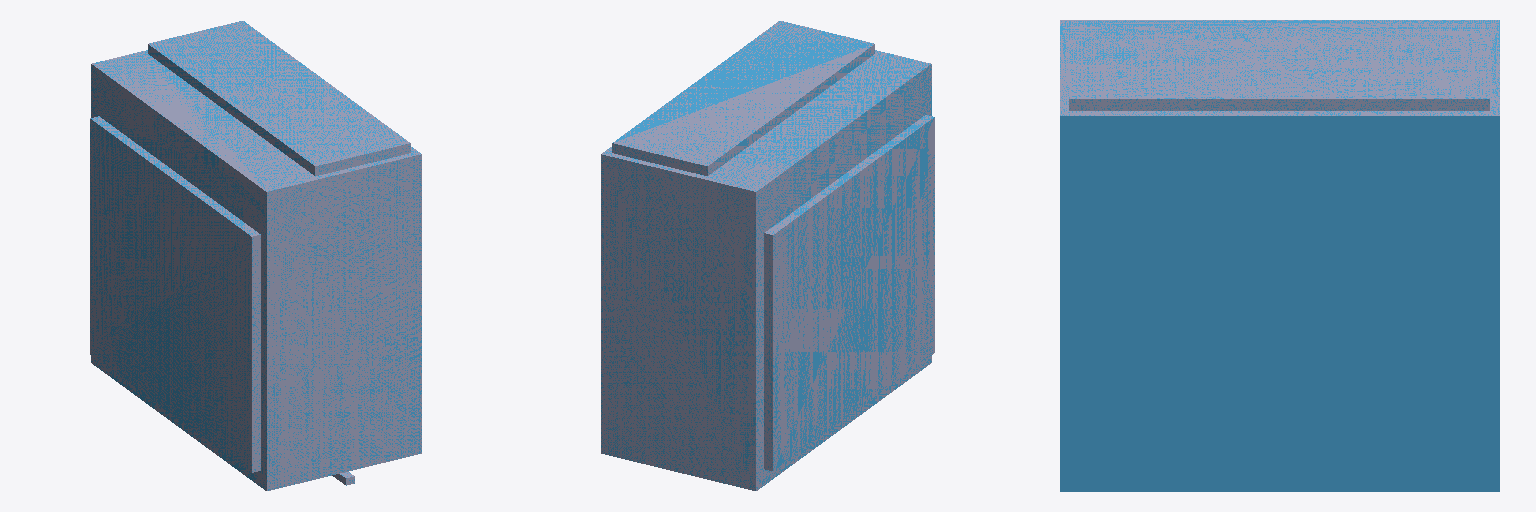
robot.urdf — right-pull-door:
<?xml version="1.0" ?>
<robot name="right-pull-door">
	<link name="base"/>
	<link name="link_0">
		<visual name="out-frame">
			<origin xyz="0 0 0"/>
			<geometry>
				<mesh filename="texture_dae/frame.dae" scale="1 1 1"/>
			</geometry>
		</visual>
		<collision>
			<origin xyz="0 0 0"/>
			<geometry>
				<mesh filename="texture_dae/frame.dae" scale="1 1 1"/>
			</geometry>
		</collision>
	</link>
	<joint name="joint_0" type="fixed">
		<origin rpy="1.570796326794897 0 -1.570796326794897" xyz="0 0 0"/>
		<child link="link_0"/>
		<parent link="base"/>
	</joint>
	<link name="link_1">
		<visual name="surf-board">
			<origin xyz="0.5862813900457695 0 0"/>
			<geometry>
				<mesh filename="texture_dae/board.dae" scale="1 1 1"/>
			</geometry>
		</visual>
		<collision>
			<origin xyz="0.5862813900457695 0 0"/>
			<geometry>
				<mesh filename="texture_dae/board.dae" scale="1 1 1"/>
			</geometry>
		</collision>
	</link>
	<joint name="joint_1" type="revolute">
		<origin xyz="-0.5862813900457695 0 0"/>
		<axis xyz="0 -1 0"/>
		<child link="link_1"/>
		<parent link="link_0"/>
		<limit lower="0" upper="1.5079644737231006"/>
	</joint>
	<link name="link_2">
		<visual name="handle">
			<origin xyz="0 0 0"/>
			<geometry>
				<mesh filename="texture_dae/9961238.dae" scale="0.25 0.25 0.25"/>
			</geometry>
		</visual>
		<collision>
			<origin xyz="0 0 0"/>
			<geometry>
				<mesh filename="texture_dae/9961238.dae" scale="0.25 0.25 0.25"/>
			</geometry>
		</collision>
	</link>
	<joint name="joint_2" type="revolute">
		<origin xyz="0.5862813900457695 0 0.000879415615476158"/>
		<child link="link_2"/>
		<parent link="link_1"/>
		<axis xyz="0 0 1"/>
		<limit lower="0" upper="1.5079644737231006"/>
	</joint>
</robot>

--- Render facts (derived) ---
3 views of the same robot in one strip: view 1: azimuth 30°, elevation 25°; view 2: azimuth 150°, elevation 25°; view 3: azimuth 270°, elevation 25° (orthographic).
Robot: right-pull-door — 4 links, 3 joints (2 revolute, 1 fixed); root link base; default pose: every joint at zero.
Visible links, largest first — view 1: link_0; view 2: link_0; view 3: link_0.
Boxes of the visible links, box(x1,y1,x2,y2) form: link_0: box(90, 21, 421, 490); link_0: box(601, 21, 934, 490); link_0: box(1060, 20, 1499, 491).
Bounding box of the posed robot: 0.4921 × 0.9097 × 0.9382 m (x, y, z).
3 mesh visuals loaded from 3 distinct referenced files (3 Collada DAE).
